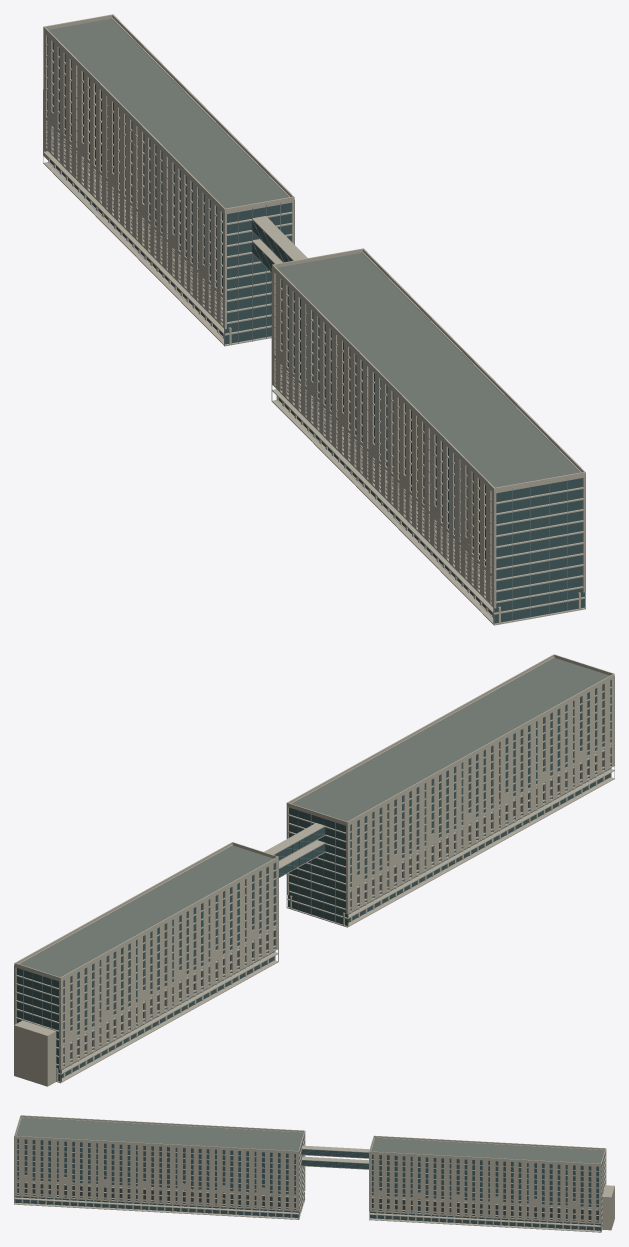
Rendered from bancolombia-medellin-near.glb.
3 views of the same model, one above another, from view 1: azimuth 30°, elevation 25°; view 2: azimuth 150°, elevation 25°; view 3: azimuth 270°, elevation 25° (orthographic). The views are drawn at different scales.
Visible parts, largest first — view 1: bancolombia-medellin-0-stone, bancolombia-medellin-0-roof, bancolombia-medellin-0-glass, bancolombia-medellin-0-trim, bancolombia-medellin-0-metal; view 2: bancolombia-medellin-0-stone, bancolombia-medellin-0-roof, bancolombia-medellin-0-glass, bancolombia-medellin-0-shadow, bancolombia-medellin-0-trim, bancolombia-medellin-0-metal; view 3: bancolombia-medellin-0-stone, bancolombia-medellin-0-glass, bancolombia-medellin-0-roof, bancolombia-medellin-0-shadow, bancolombia-medellin-0-metal, bancolombia-medellin-0-trim.
Boxes of the visible parts, left/top/right/bottom form: bancolombia-medellin-0-stone: left=43, top=14, right=585, bottom=625; bancolombia-medellin-0-roof: left=48, top=18, right=579, bottom=487; bancolombia-medellin-0-glass: left=47, top=36, right=584, bottom=623; bancolombia-medellin-0-trim: left=43, top=29, right=585, bottom=625; bancolombia-medellin-0-metal: left=46, top=125, right=491, bottom=596; bancolombia-medellin-0-stone: left=14, top=654, right=614, bottom=1086; bancolombia-medellin-0-roof: left=19, top=658, right=609, bottom=977; bancolombia-medellin-0-glass: left=16, top=680, right=610, bottom=1081; bancolombia-medellin-0-shadow: left=63, top=752, right=603, bottom=1065; bancolombia-medellin-0-trim: left=14, top=676, right=614, bottom=1083; bancolombia-medellin-0-metal: left=63, top=749, right=611, bottom=1065; bancolombia-medellin-0-stone: left=14, top=1115, right=614, bottom=1232; bancolombia-medellin-0-glass: left=15, top=1138, right=604, bottom=1231; bancolombia-medellin-0-roof: left=16, top=1117, right=604, bottom=1163; bancolombia-medellin-0-shadow: left=17, top=1181, right=598, bottom=1222; bancolombia-medellin-0-metal: left=17, top=1151, right=598, bottom=1221; bancolombia-medellin-0-trim: left=14, top=1136, right=603, bottom=1232.
Bounding box in the file's own units: 76.26 × 49.8 × 396.
